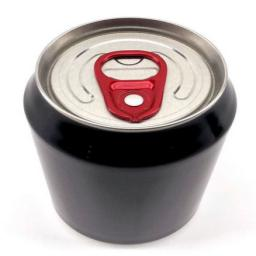Aluminum: (24, 19, 238, 242)
